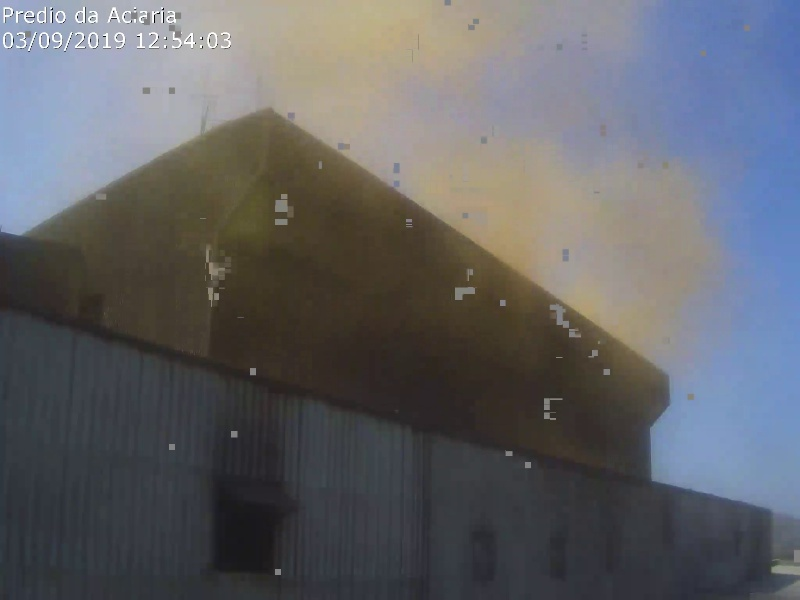Pessimo: (297, 14, 462, 78), (306, 48, 471, 112), (349, 85, 514, 149), (394, 124, 559, 188), (480, 178, 645, 242), (523, 216, 688, 280), (556, 248, 721, 312)
